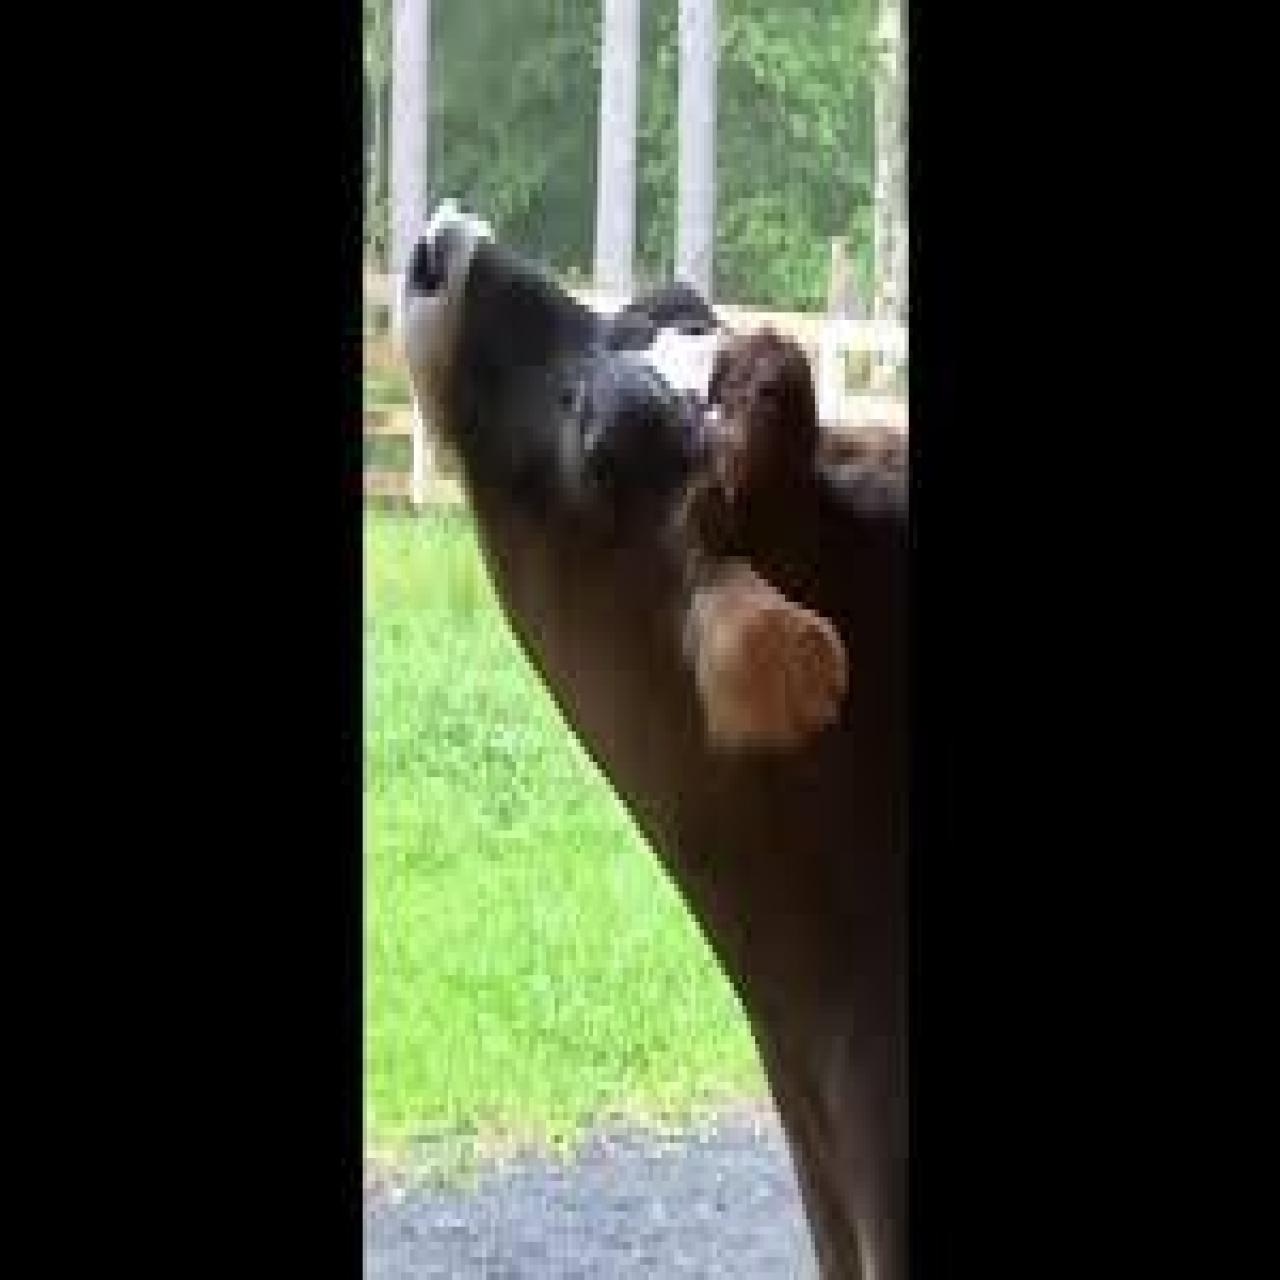cow: (401, 190, 908, 1280)
